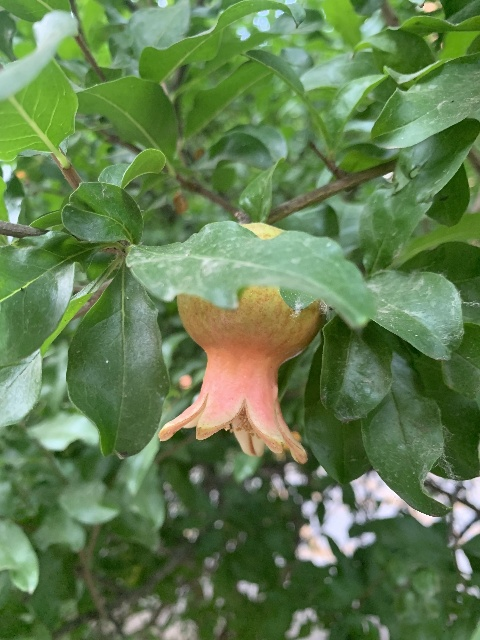early-fruit: (157, 222, 323, 461)
